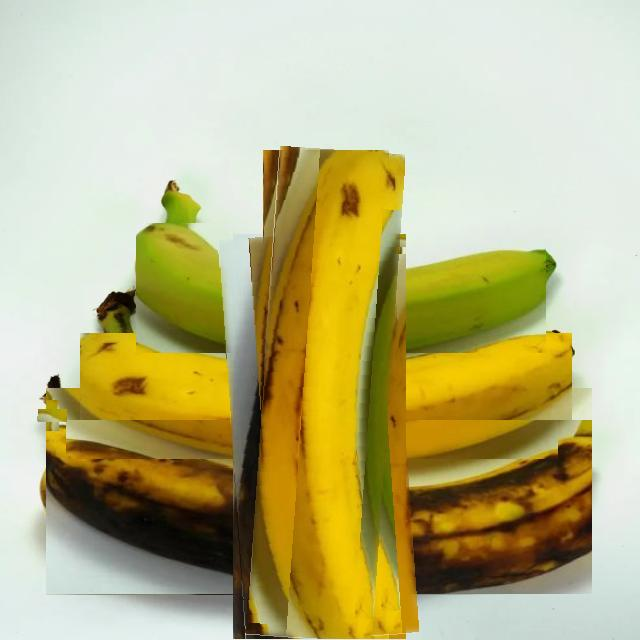Execivamente Madura: (232, 229, 392, 640), (38, 409, 66, 422)
Madura: (263, 152, 405, 640)
Quase Madura: (136, 223, 546, 353)
